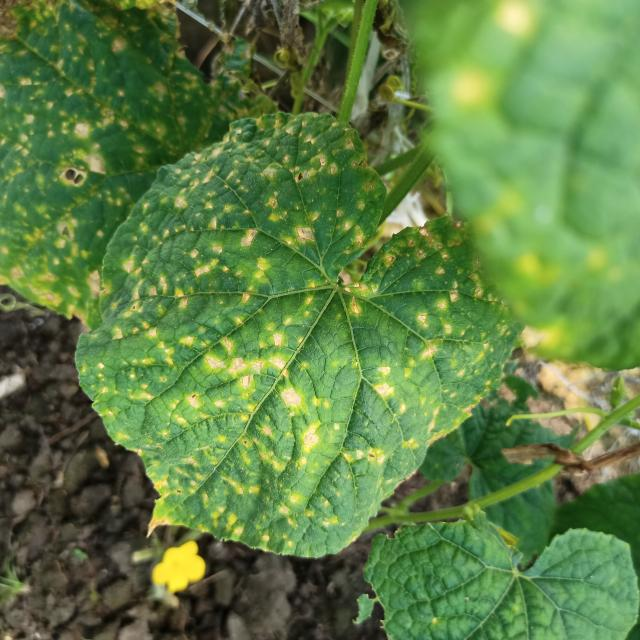disease_cucumber: (91, 115, 516, 549), (0, 0, 250, 306)
